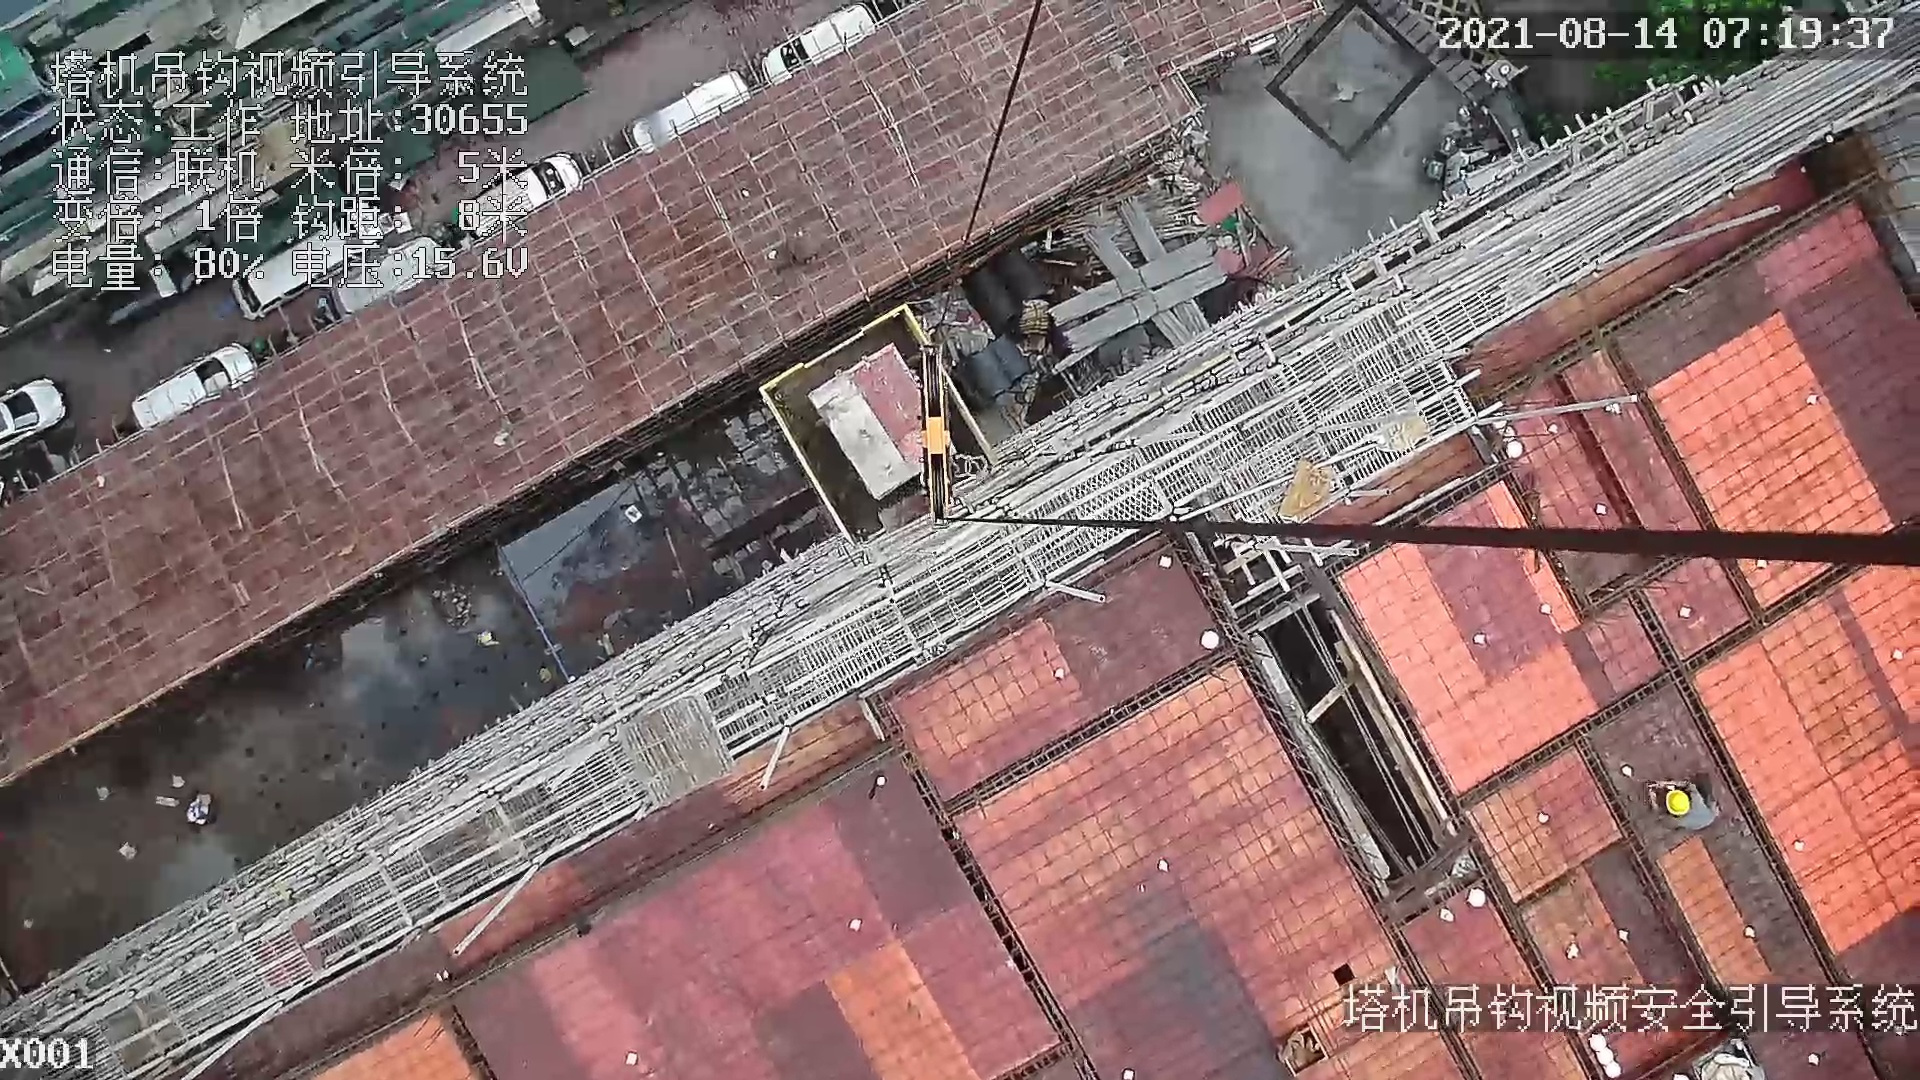helmet: (1656, 786, 1697, 817)
hook: (903, 342, 969, 530)
person: (1647, 773, 1722, 833)
